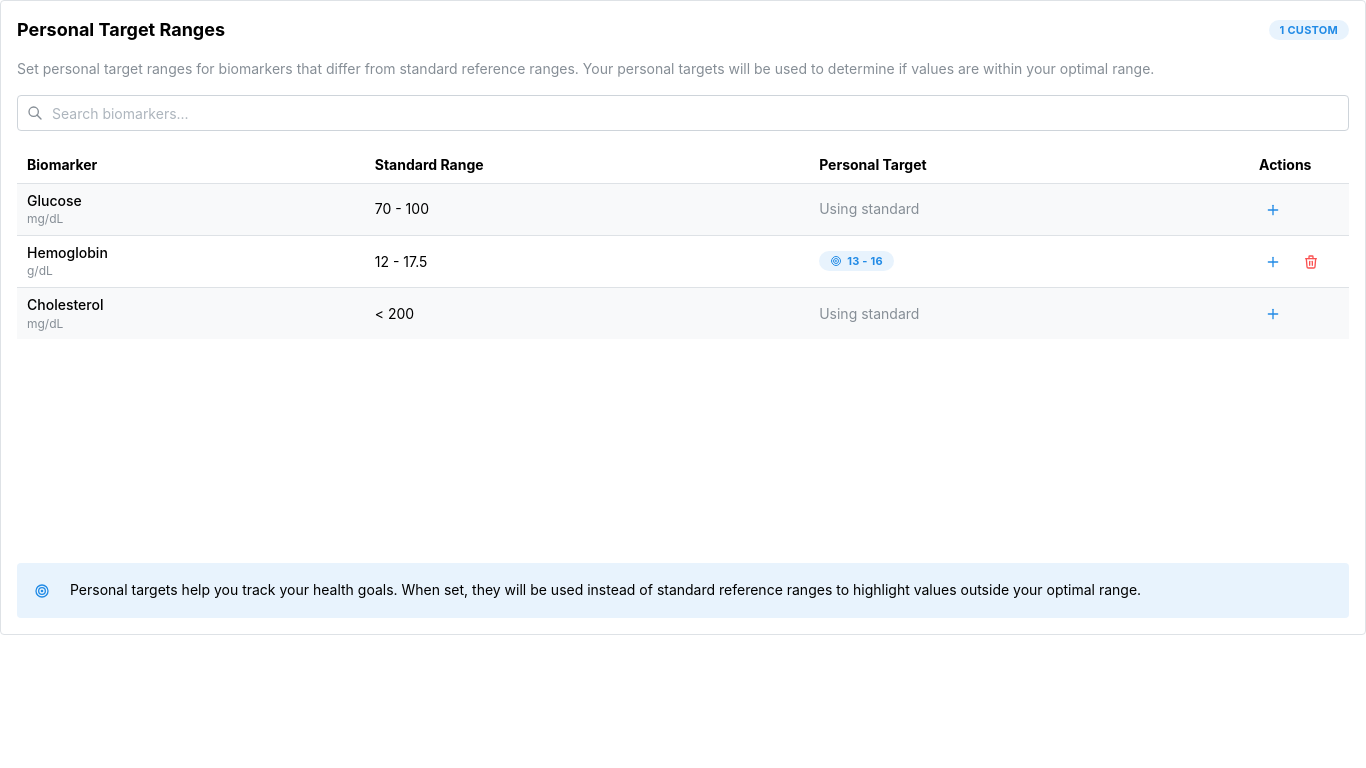
Test: PersonalTargets › setting personal target › should close modal after saving
Click the button named "set personal target for" at [1273, 210], box [1259,196,1287,224]
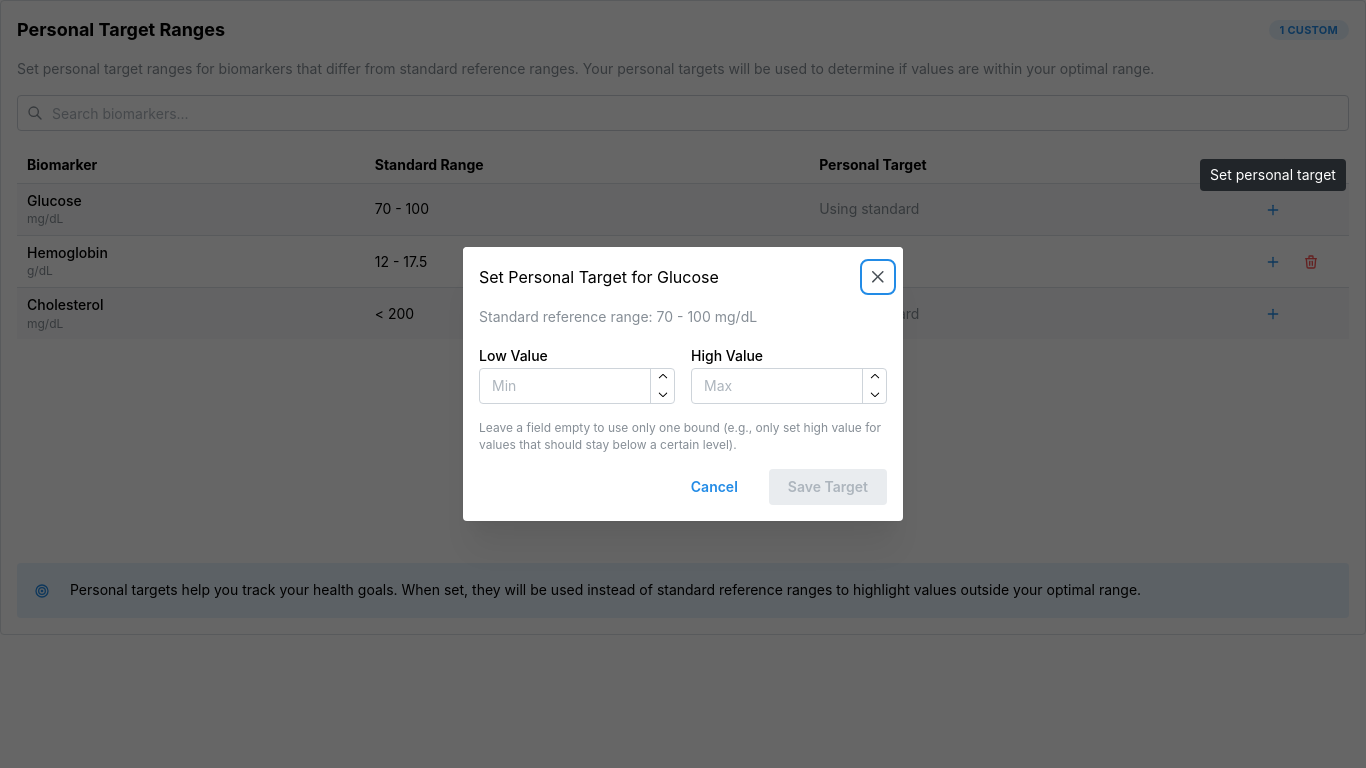
Type "75" into the field named "personal target low value" at [577, 386], box [479,368,675,404]
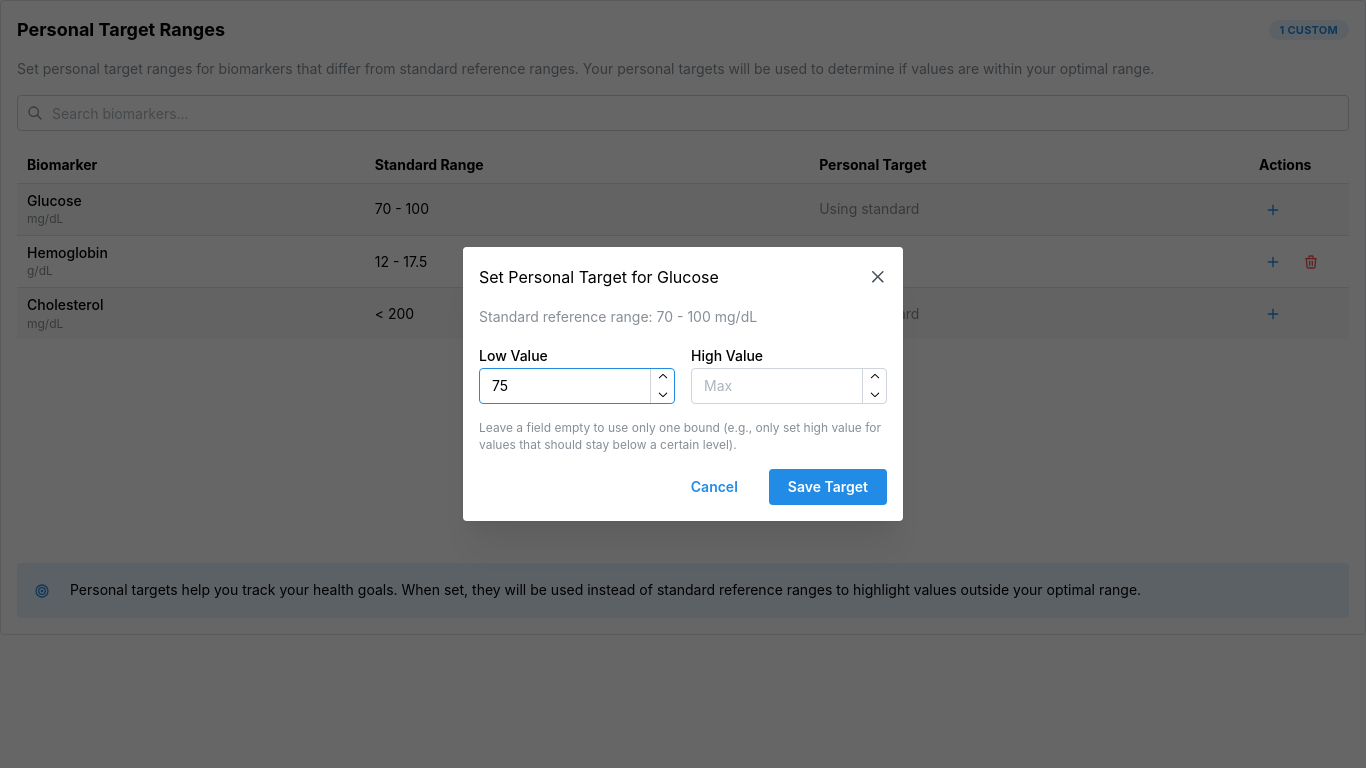
Click the button "Save Target" at [828, 487], box [769,469,887,505]
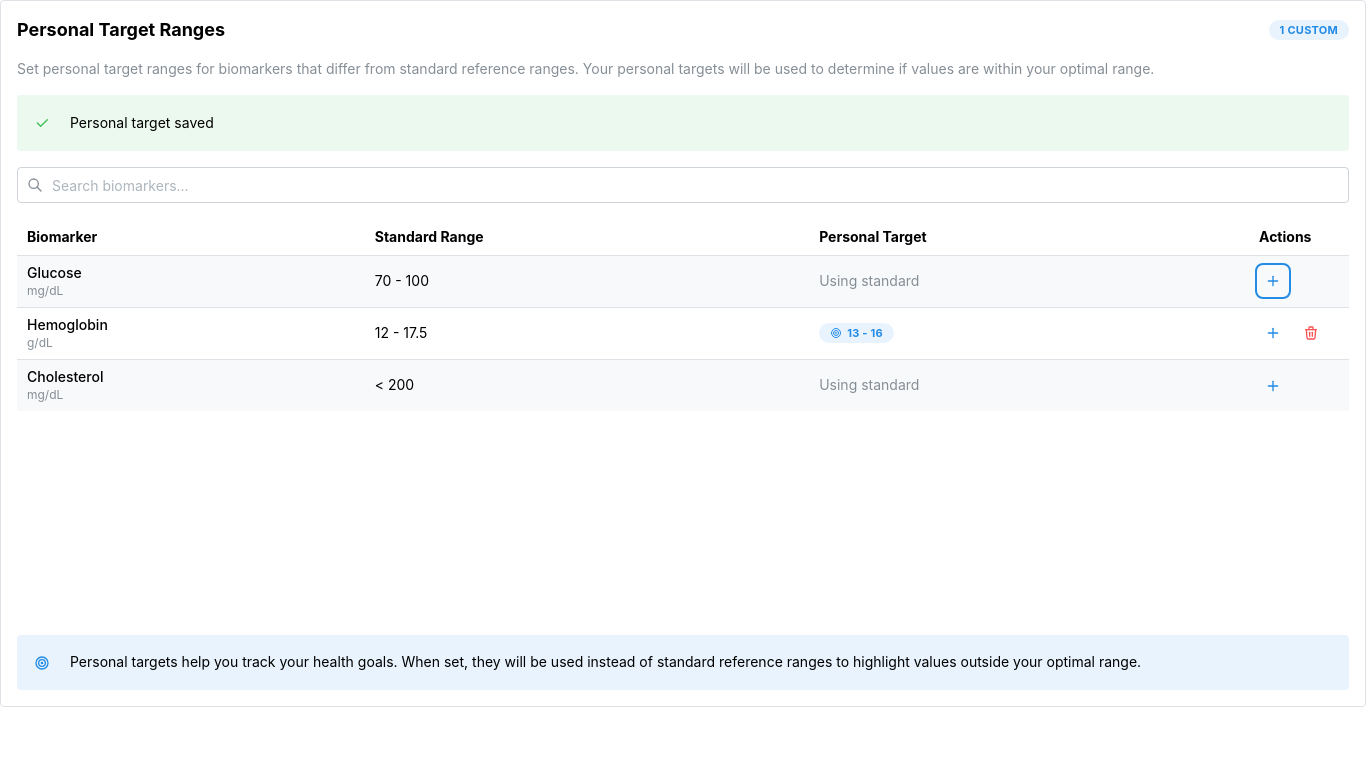
Now the heading "Set Personal Target for Glucose" is gone
